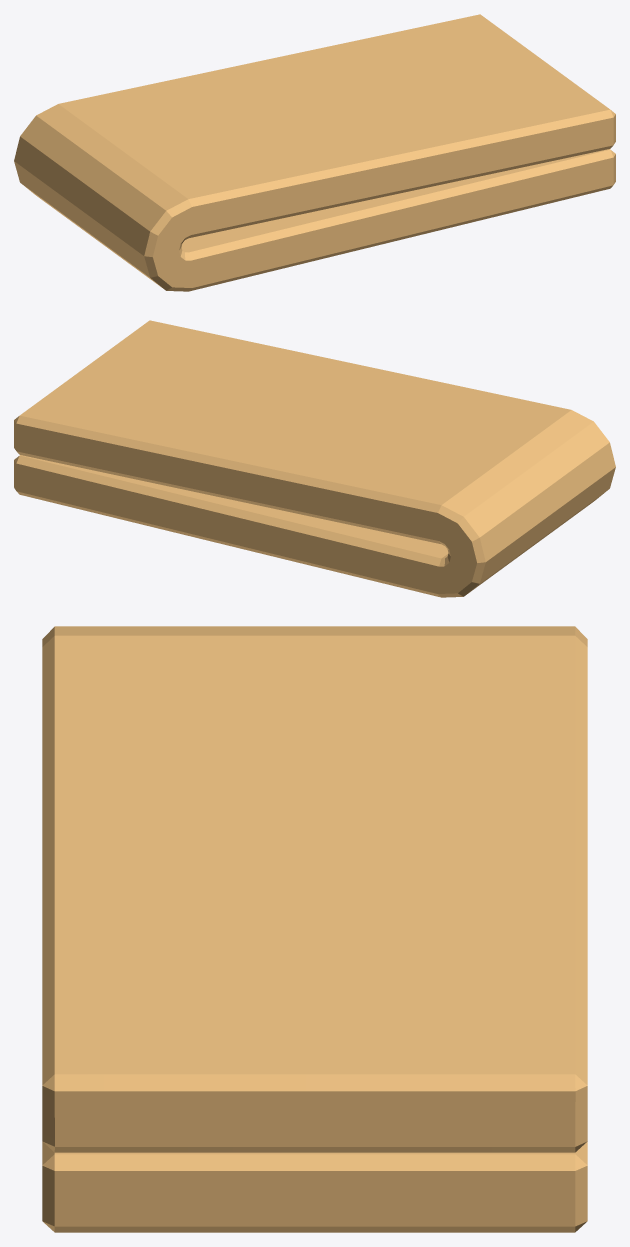
Rendered from towel7.fbx.
3 renders of one model, top to bottom at view 1: azimuth 30°, elevation 25°; view 2: azimuth 150°, elevation 25°; view 3: azimuth 270°, elevation 25°, orthographic. The views are drawn at different scales.
Visible parts, largest first — view 1: towel7; view 2: towel7; view 3: towel7.
Boxes of the visible parts, x1,y1,x2,y2 form: towel7: (14,14,615,291); towel7: (14,320,615,597); towel7: (42,626,587,1232).
Bounding box in the file's own units: 2.75 × 0.5155 × 1.38.
